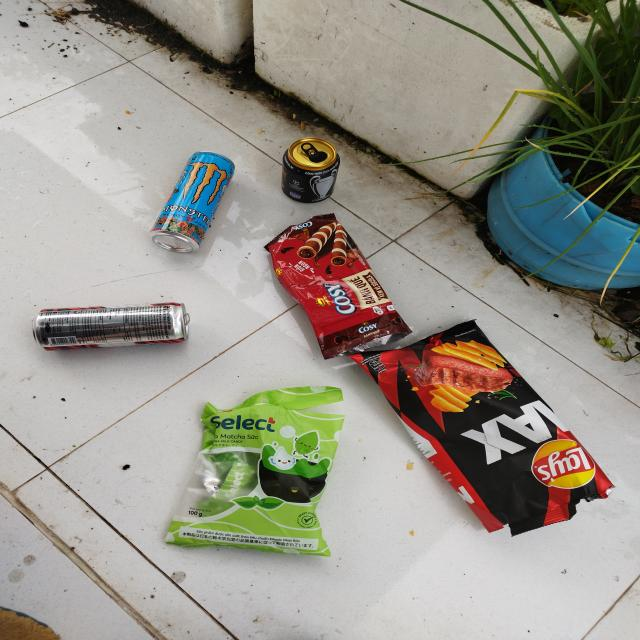can: (150, 150, 237, 253), (33, 302, 189, 352), (282, 138, 340, 203)
snack package: (345, 318, 615, 538), (164, 387, 344, 557), (264, 212, 413, 360)
